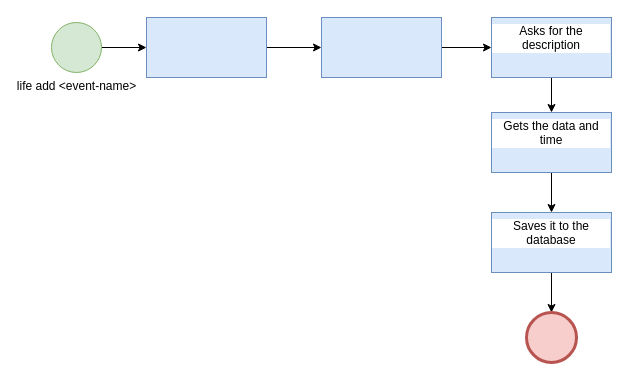
Image size: 629x380. Some labels were removed from this diagram. The shapes that lost their labels are listed below. From the top down, each one's centre as x and y in pixels, then its label:
At point (206, 47): "Creates a new Event".
At point (381, 47): "Asks for the event name".
